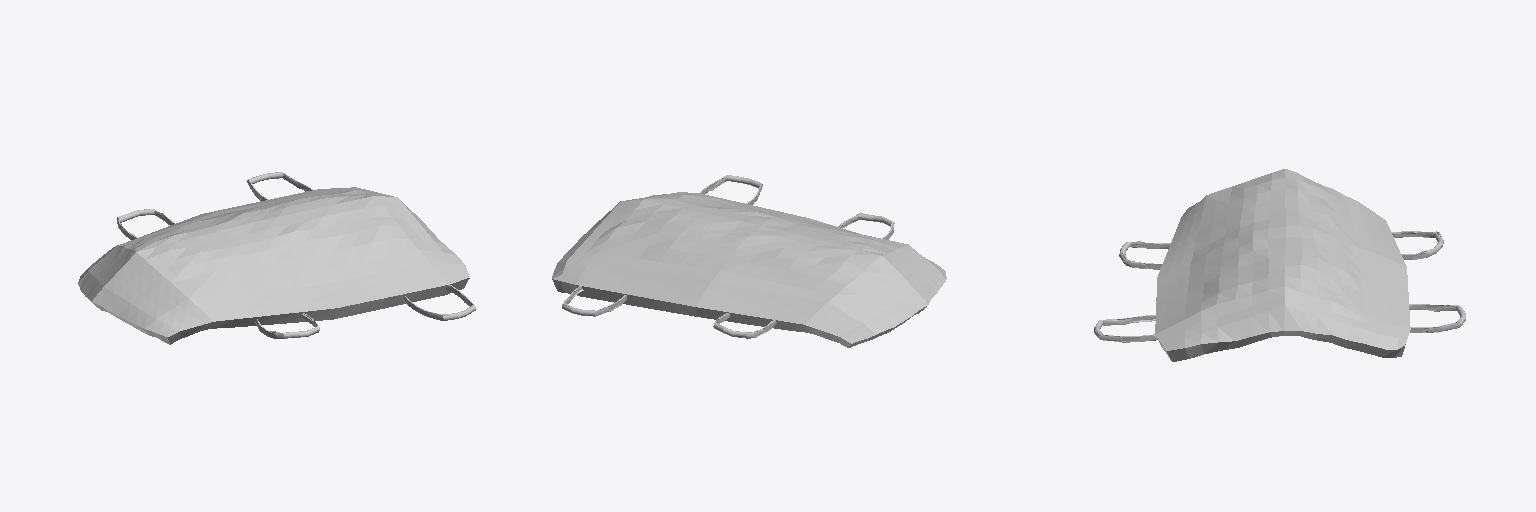
File: Burt2.obj
3 views of the same model, side by side, from view 1: azimuth 30°, elevation 25°; view 2: azimuth 150°, elevation 25°; view 3: azimuth 270°, elevation 25° (orthographic).
Visible parts, largest first — view 1: Plane, Cylinder.001_Cylinder; view 2: Plane, Cylinder.003_Cylinder.005; view 3: Plane, Cylinder.001_Cylinder, Cylinder.003_Cylinder.005, Cylinder.005_Cylinder.007, Cylinder.002.
Part boxes in pixels (x1,y1,x2,y2): Plane: (78,187,469,344); Cylinder.001_Cylinder: (403,285,475,320); Plane: (552,192,946,347); Cylinder.003_Cylinder.005: (562,285,626,316); Plane: (1155,169,1410,361); Cylinder.001_Cylinder: (1094,315,1157,342); Cylinder.003_Cylinder.005: (1409,304,1465,332); Cylinder.005_Cylinder.007: (1391,231,1443,259); Cylinder.002: (1119,241,1170,269).
Size of the model in its own units: 1.21 by 0.2271 by 1.2.